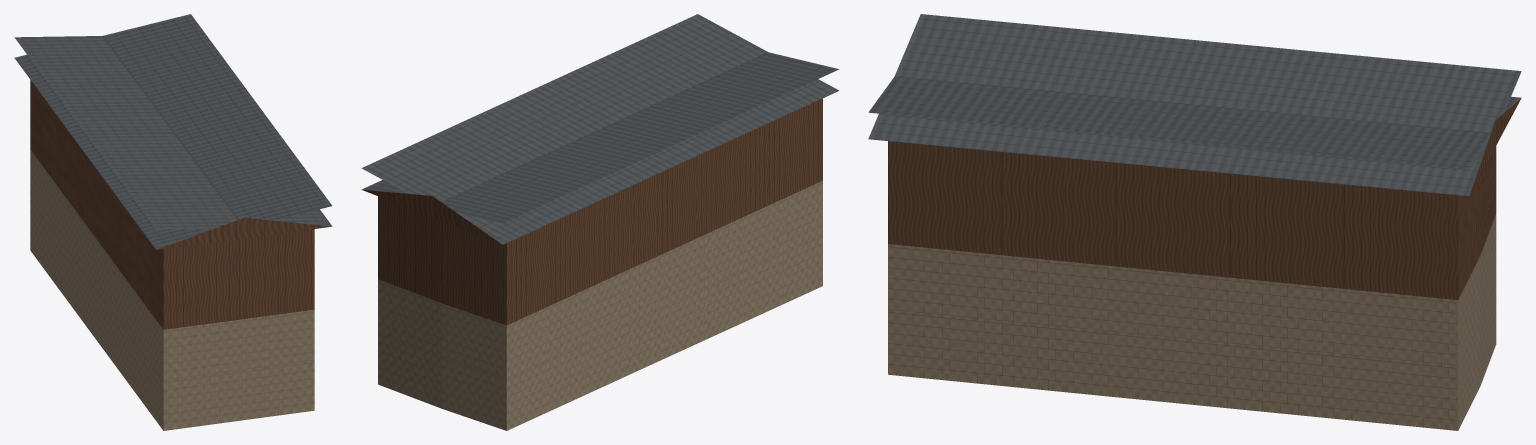
File: bld_c-22_-20_807.gltf
3 renders of one model, left to right at view 1: azimuth 30°, elevation 25°; view 2: azimuth 150°, elevation 25°; view 3: azimuth 270°, elevation 25°, orthographic. The views are drawn at different scales.
Visible parts, largest first — view 1: bld_c-22_-20_807; view 2: bld_c-22_-20_807; view 3: bld_c-22_-20_807.
Part boxes in pixels (bbox=[...]): bld_c-22_-20_807: bbox=[14, 14, 332, 430]; bld_c-22_-20_807: bbox=[361, 14, 839, 430]; bld_c-22_-20_807: bbox=[868, 14, 1521, 430].
Bounding box in the file's own units: 12.57 × 10.1 × 22.27.
Materials: 4 (4 with a texture image).
